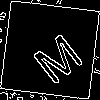M: (25, 25, 86, 87)
